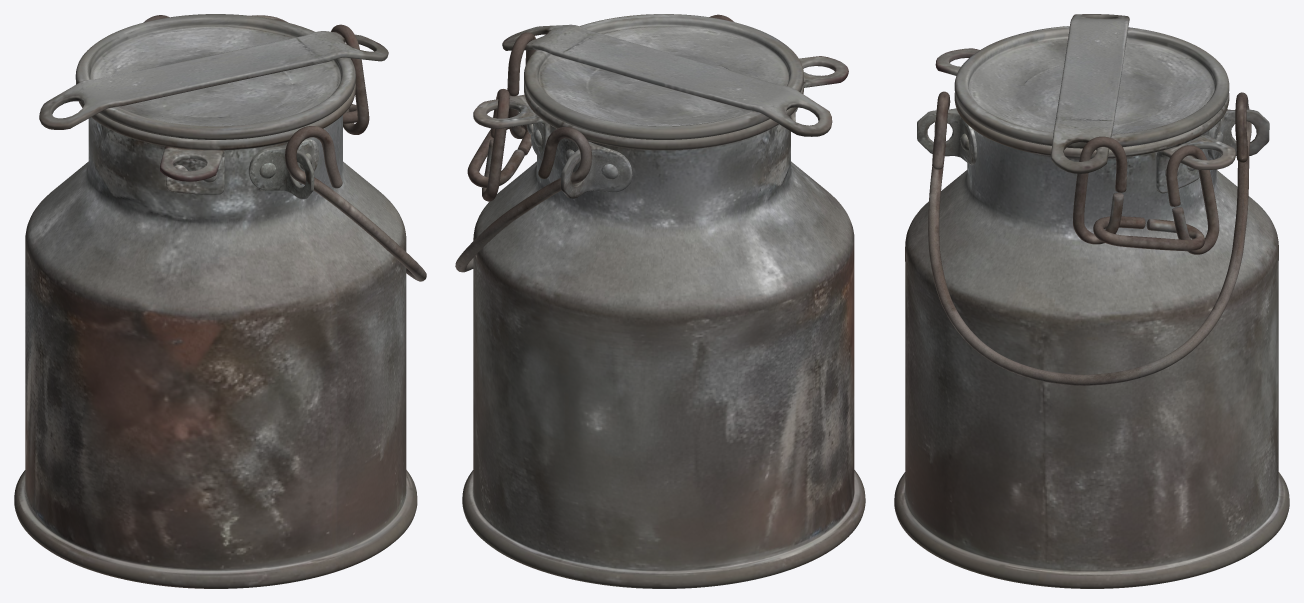
The model's file is Metal bottle container.fbx.
The picture shows the model from 3 angles, left to right: view 1: azimuth 30°, elevation 25°; view 2: azimuth 150°, elevation 25°; view 3: azimuth 270°, elevation 25°; orthographic projection.
Parts seen in each view (by area): view 1: MilkCan, Handle, Link00; view 2: MilkCan, Handle, Link03, Link01, Link00; view 3: MilkCan, Handle, Link00, Link03, Link01.
Boxes of the visible parts, x1=… form: MilkCan: x1=14, y1=14, x2=417, y2=588; Handle: x1=143, y1=15, x2=426, y2=281; Link00: x1=331, y1=24, x2=369, y2=134; MilkCan: x1=462, y1=14, x2=865, y2=588; Handle: x1=455, y1=14, x2=733, y2=272; Link03: x1=482, y1=89, x2=509, y2=201; Link01: x1=467, y1=125, x2=531, y2=187; Link00: x1=507, y1=32, x2=535, y2=138; MilkCan: x1=894, y1=14, x2=1289, y2=588; Handle: x1=928, y1=91, x2=1251, y2=385; Link00: x1=1073, y1=136, x2=1127, y2=244; Link03: x1=1166, y1=145, x2=1219, y2=254; Link01: x1=1093, y1=216, x2=1204, y2=251.
Size of the model in its own units: 90.44 by 109 by 90.09.
1 material, 1 textured.
